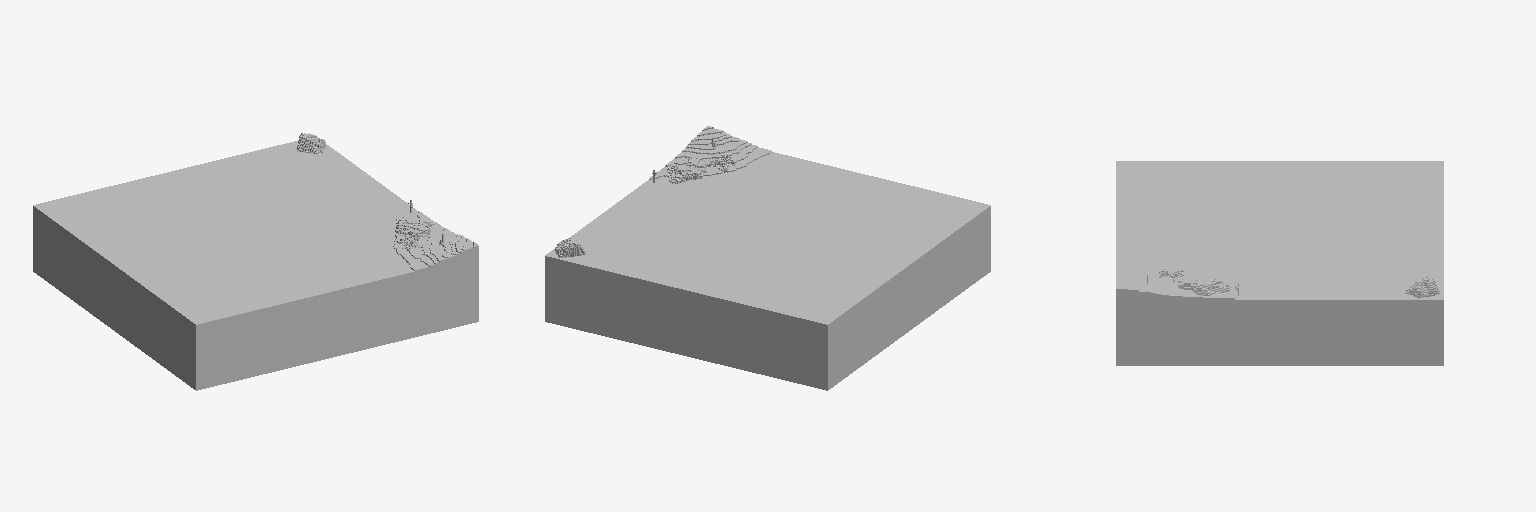
The model's file is Sunkeny City -  Voxel Desert-4-tile 5.obj.
The picture shows the model from 3 angles: view 1: azimuth 30°, elevation 25°; view 2: azimuth 150°, elevation 25°; view 3: azimuth 270°, elevation 25°; orthographic projection.
Visible parts, largest first — view 1: tile 5; view 2: tile 5; view 3: tile 5.
Part boxes in pixels (left/top/right/bottom): tile 5: left=33, top=133, right=478, bottom=390; tile 5: left=545, top=126, right=990, bottom=390; tile 5: left=1116, top=161, right=1443, bottom=365.
Size of the model in its own units: 25.6 by 7 by 25.6.